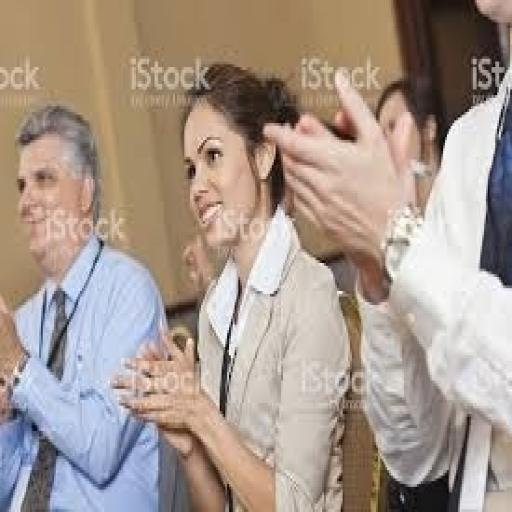clapping: (261, 0, 510, 509), (110, 59, 352, 509), (0, 100, 169, 509)
